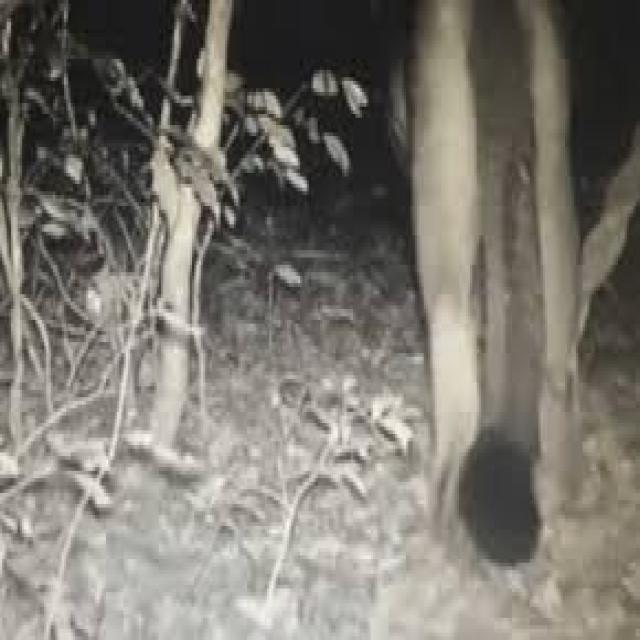Jaguar: (380, 0, 587, 585)
